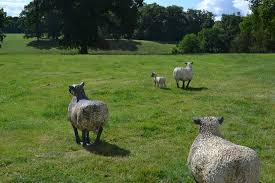sheep: (186, 113, 261, 182), (66, 82, 108, 146), (172, 60, 196, 91), (148, 70, 167, 86)
